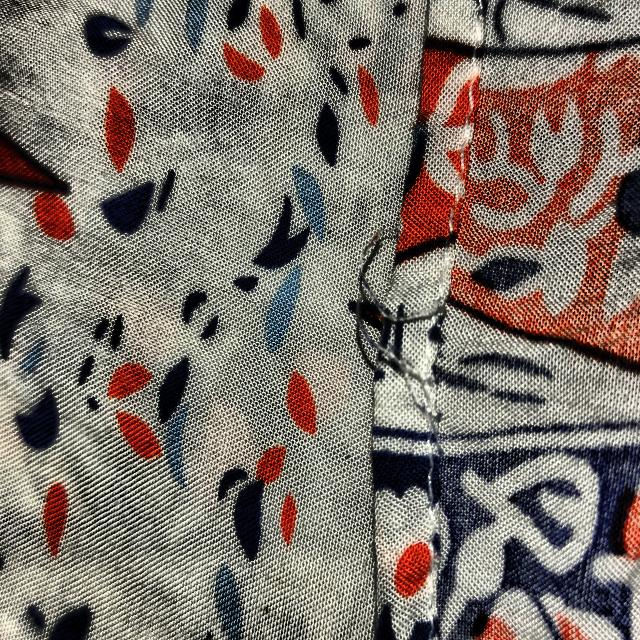Stitch: (322, 213, 468, 486)
